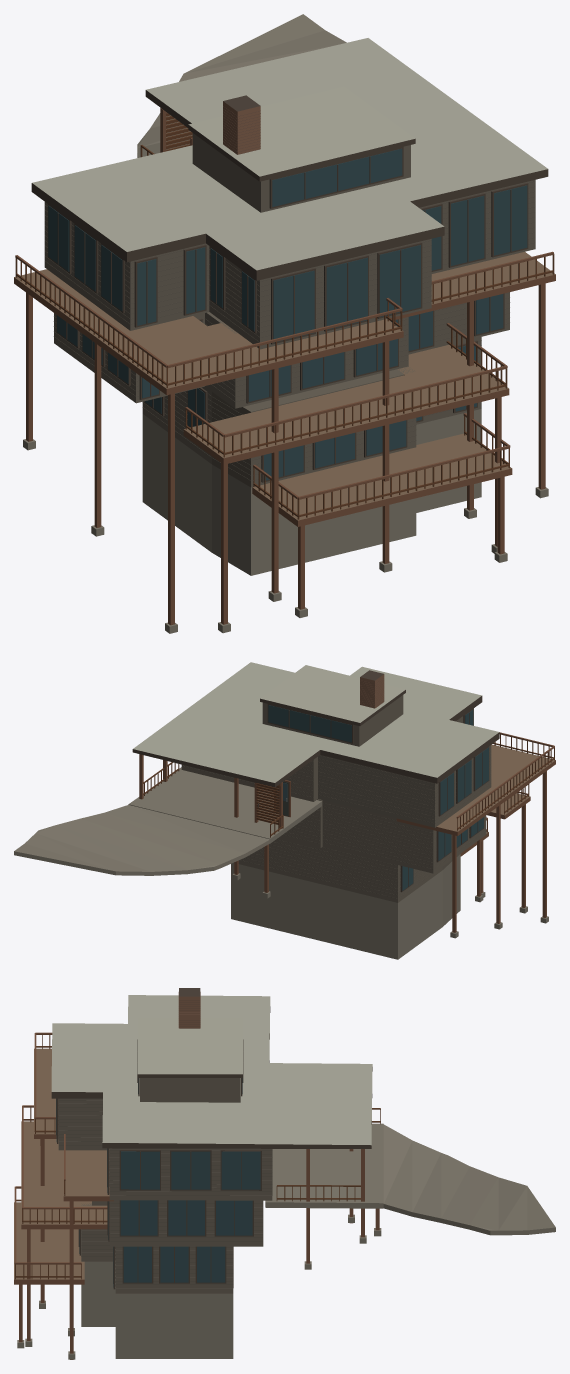
The model's file is site.glb.
3 renders of one model, top to bottom at view 1: azimuth 30°, elevation 25°; view 2: azimuth 150°, elevation 25°; view 3: azimuth 270°, elevation 25°, orthographic. The views are drawn at different scales.
Visible parts, largest first — view 1: roof-6f59699a, parkside-driveway; view 2: roof-6f59699a, parkside-driveway; view 3: roof-6f59699a, parkside-driveway.
Part boxes in pixels (box(x1,y1,x2,y2)): roof-6f59699a: box(14, 38, 555, 633); parkside-driveway: box(137, 14, 346, 157); roof-6f59699a: box(128, 662, 555, 959); parkside-driveway: box(14, 805, 270, 875); roof-6f59699a: box(14, 988, 383, 1359); parkside-driveway: box(383, 1124, 555, 1235).
Size of the model in its own units: 19.34 by 15.56 by 24.77.
